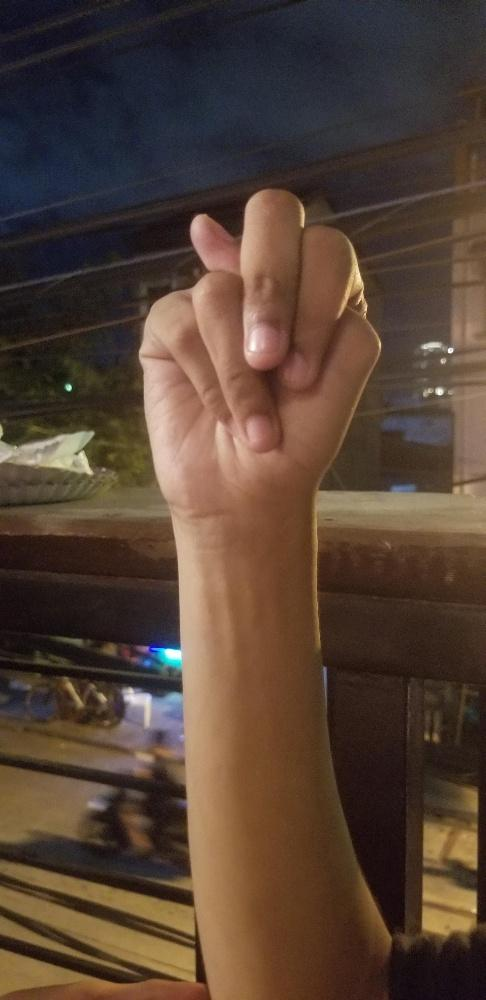n: (137, 186, 382, 499)
